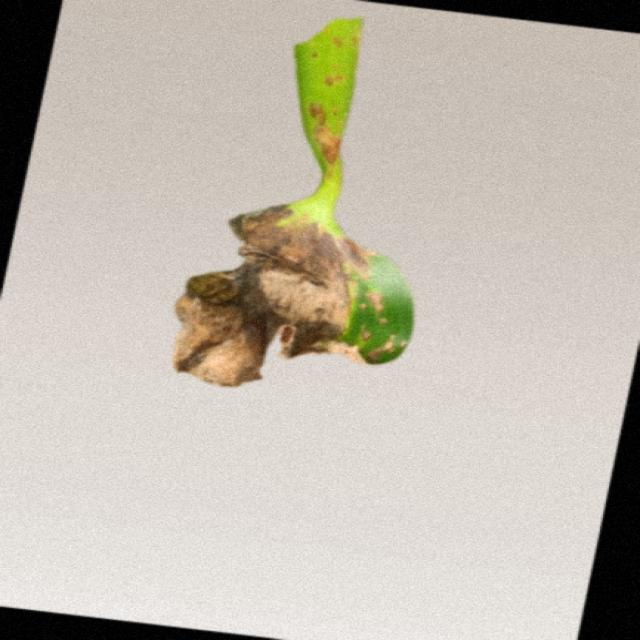daun berpenyakit karat: (173, 19, 413, 386)
